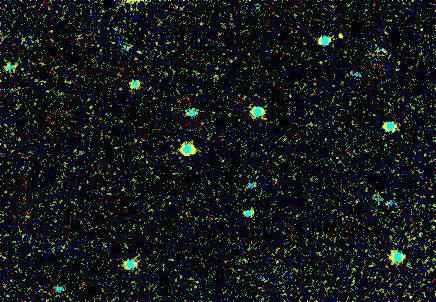star: (334, 21, 364, 51)
